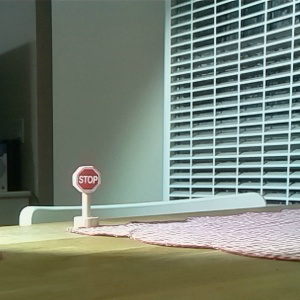stop sign: (70, 163, 103, 229)
